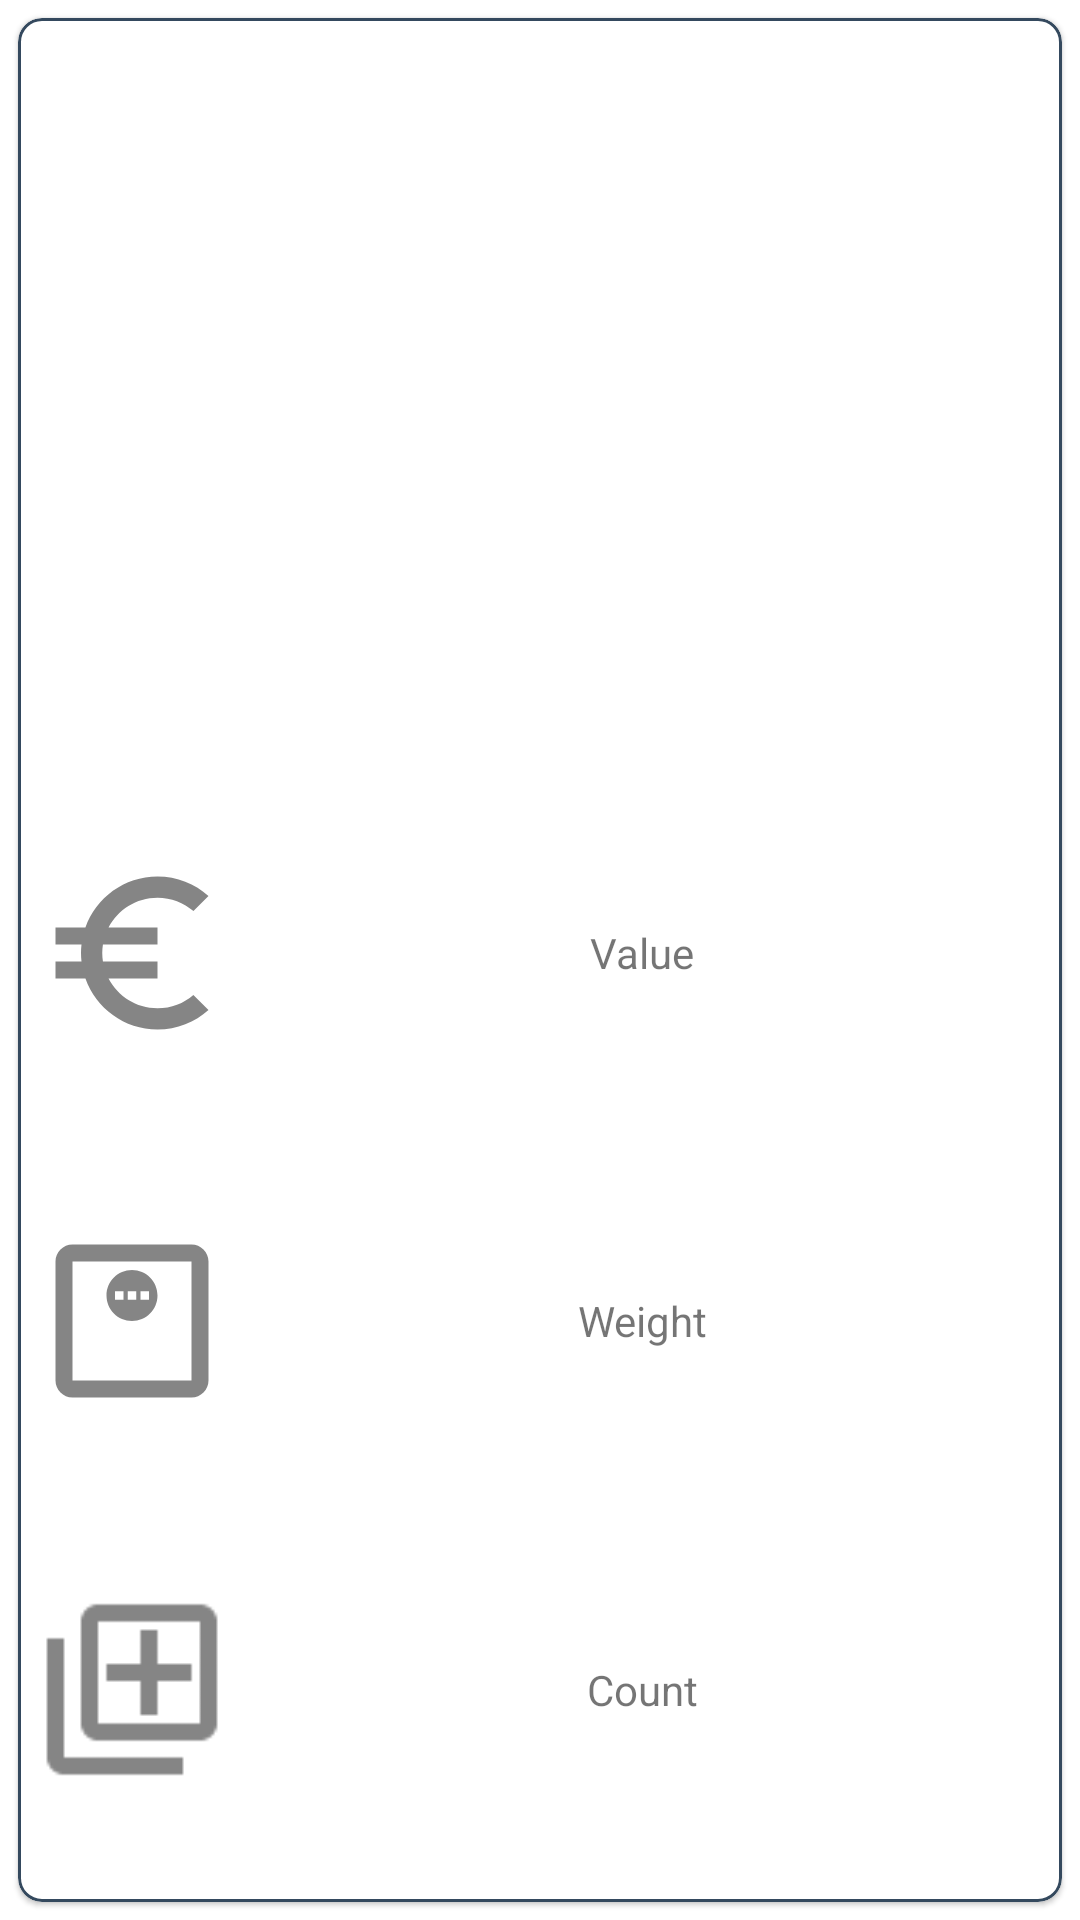

Icons on this 1080px x 1920px Android screen, each with its box as [left=x1, top=y1, right=x2, bottom=y2]:
add to photos: [left=46, top=1604, right=218, bottom=1775]
